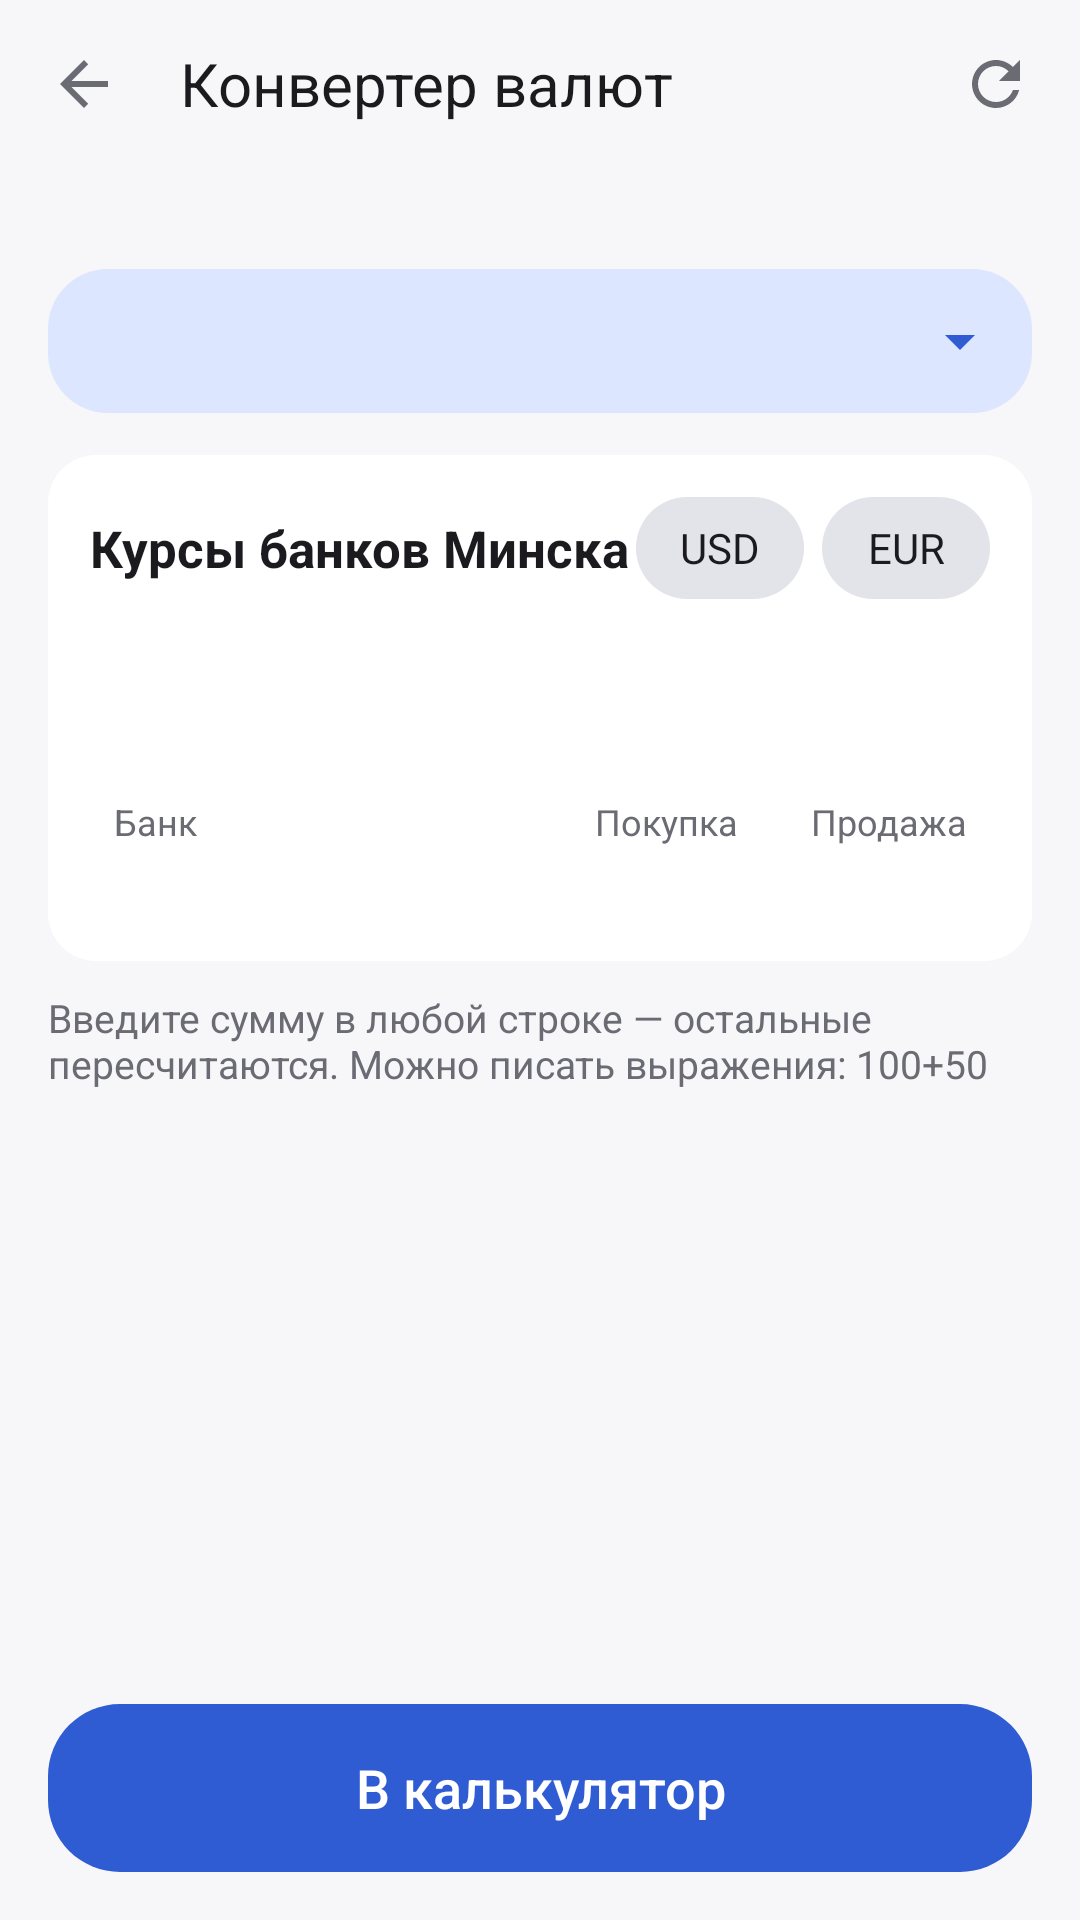

Icon bounding boxes for this 1080×1920 phone screenshot, format [x1, y1, x2, y2]:
Назад: [60, 60, 108, 108]
Обновить курсы: [972, 60, 1020, 108]
